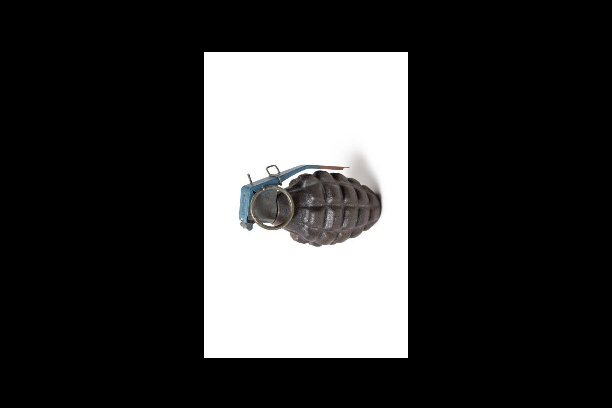e1: (236, 160, 383, 249)
